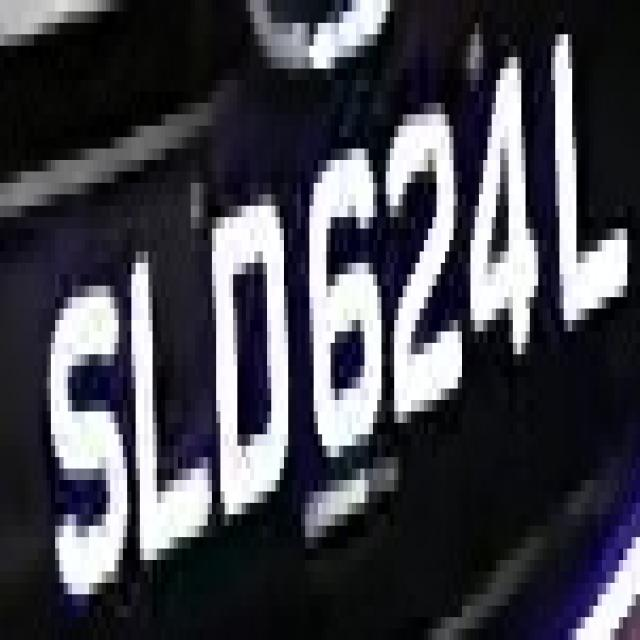2: (373, 103, 475, 457)
4: (445, 46, 538, 400)
6: (301, 125, 386, 526)
D: (208, 126, 301, 537)
L: (123, 240, 220, 560), (546, 46, 632, 354)
S: (38, 274, 132, 629)
